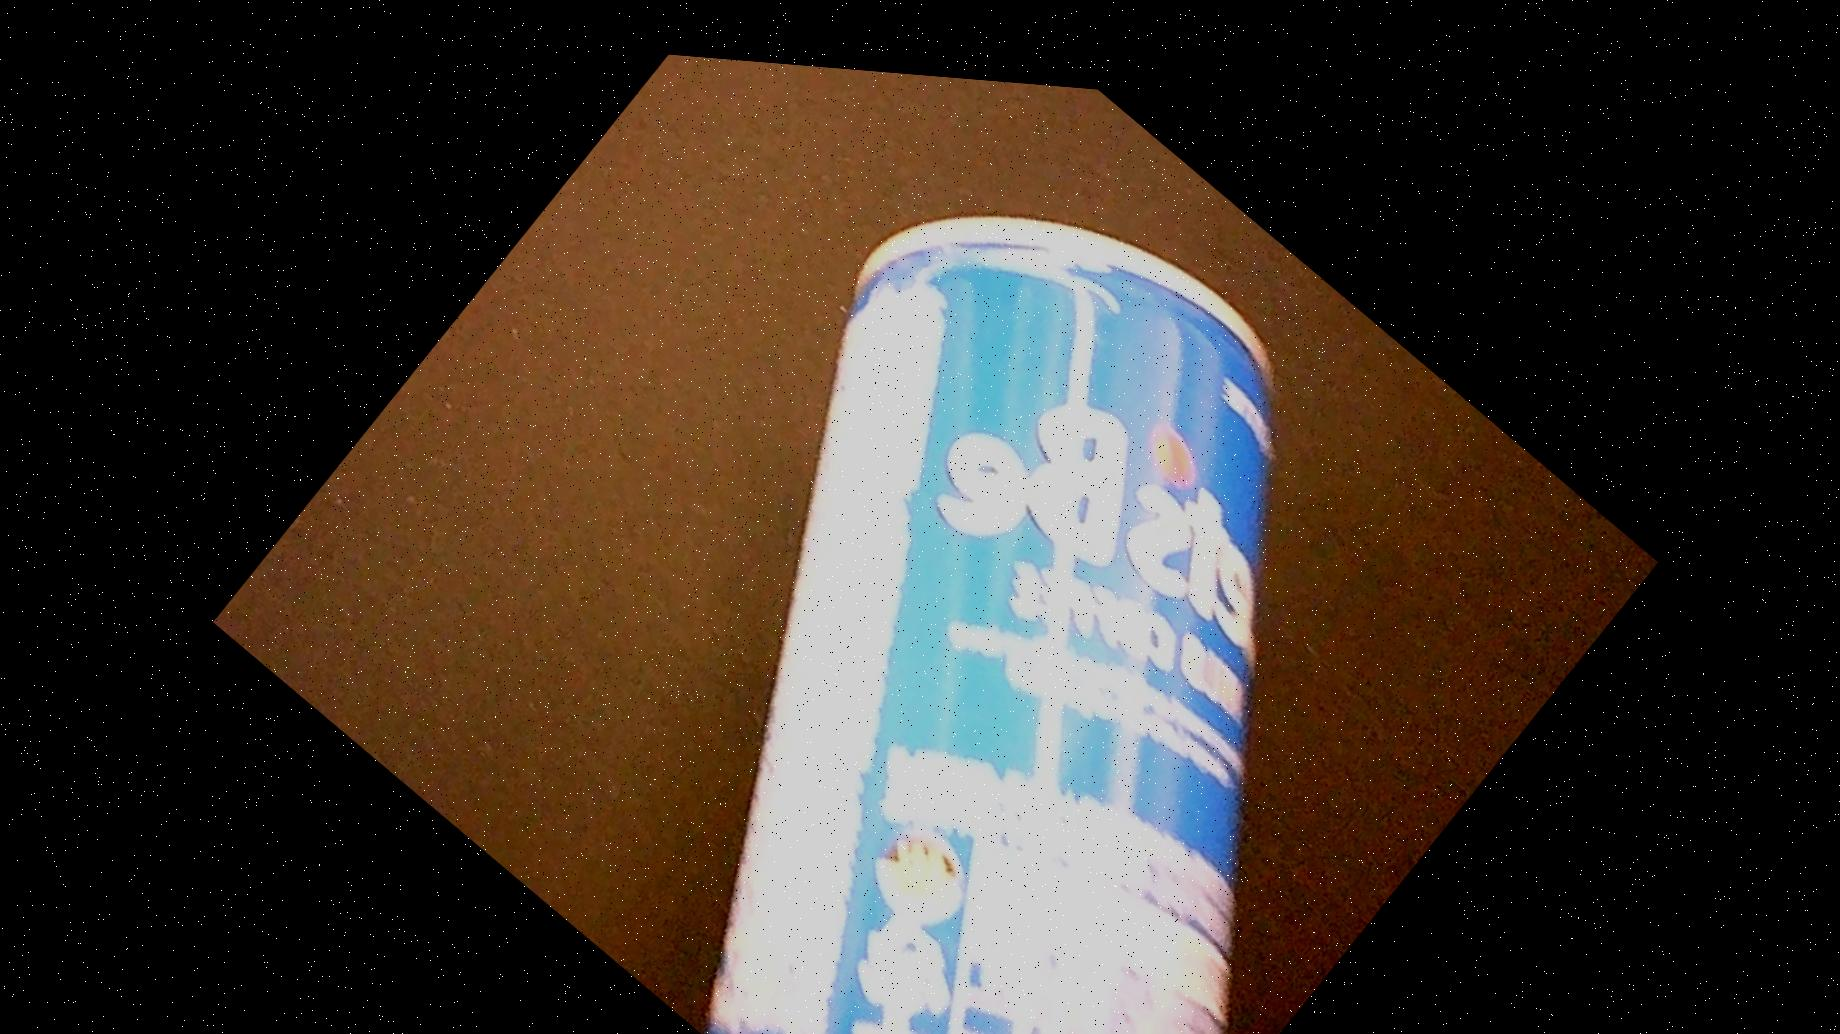letsbe: (402, 43, 1619, 1034)
